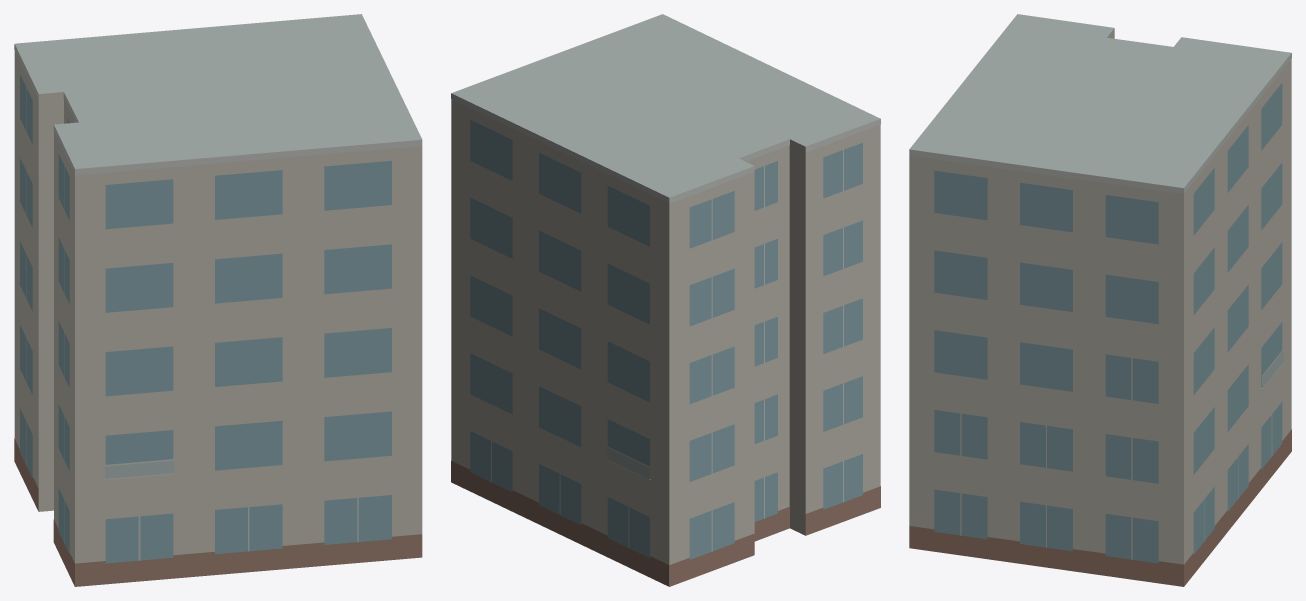
Rendered from survey-upis-32676331.glb.
3 views of the same model, side by side, from view 1: azimuth 30°, elevation 25°; view 2: azimuth 150°, elevation 25°; view 3: azimuth 270°, elevation 25° (orthographic). The views are drawn at different scales.
Visible parts, largest first — view 1: survey-upis-32676331.tmp; view 2: survey-upis-32676331.tmp; view 3: survey-upis-32676331.tmp.
Boxes of the visible parts, <box> form: survey-upis-32676331.tmp: <box>14,14,422,586</box>; survey-upis-32676331.tmp: <box>451,14,880,586</box>; survey-upis-32676331.tmp: <box>909,14,1291,586</box>.
Bounding box in the file's own units: 15.19 × 16.2 × 14.1.
